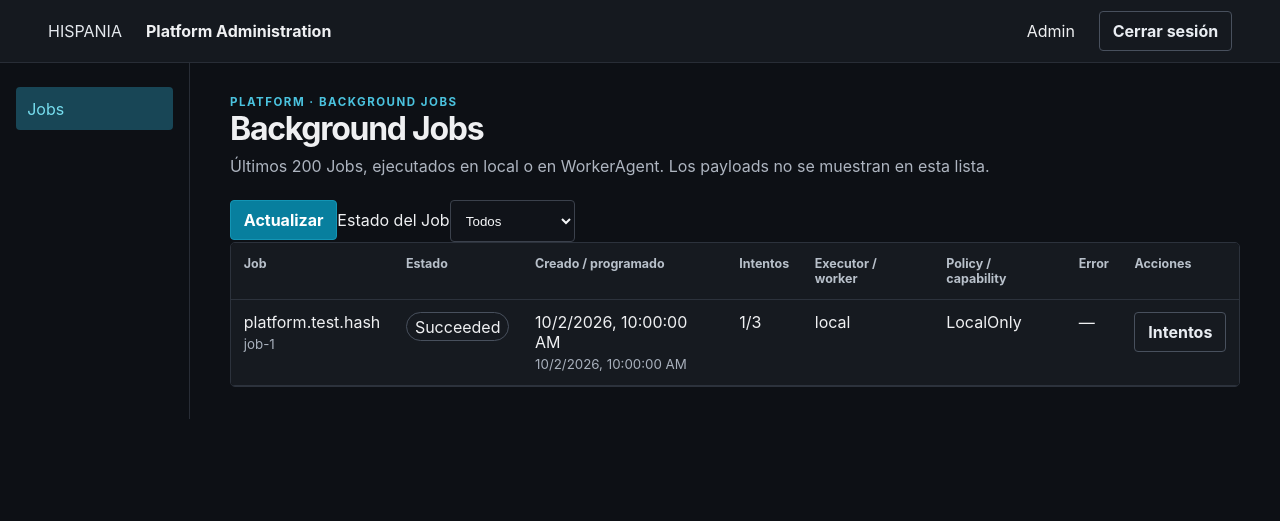
Test: Web authentication and protected routes › protects Platform Jobs with session RBAC, displays safe metadata, and loads attempt history
Check: the heading "Background Jobs" is shown, box [230, 109, 483, 148]
Check: the text "platform.test.hash" is shown, box [244, 312, 380, 332]
Click the button "Intentos": coordinates (1180, 332) [1134, 312, 1226, 352]
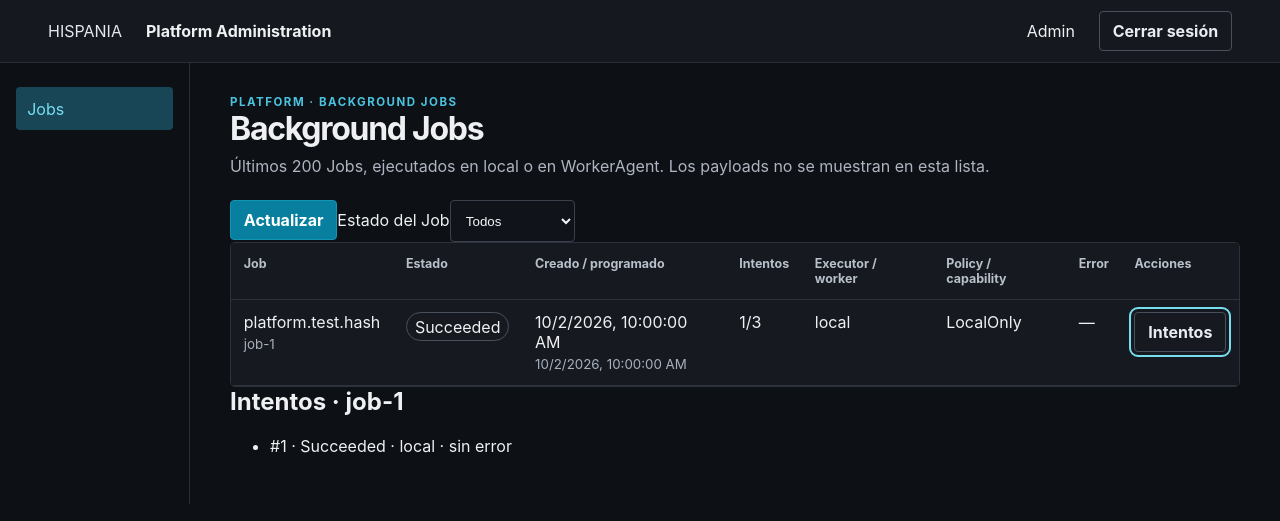
Check: the list item "#1 · Succeeded · local · sin error" is shown, box [270, 436, 512, 456]
